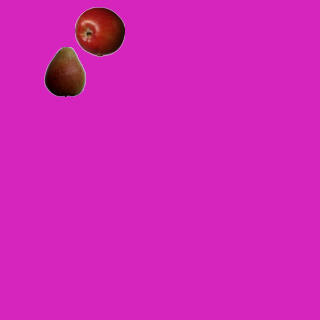Apple Braeburn: (74, 6, 124, 56)
Pear Forelle: (39, 46, 89, 96)
